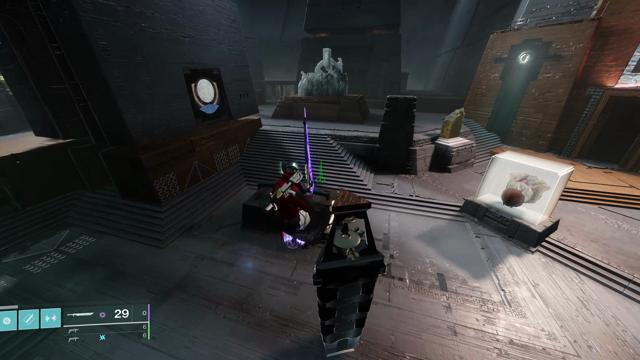traveler: (189, 77, 223, 115)
